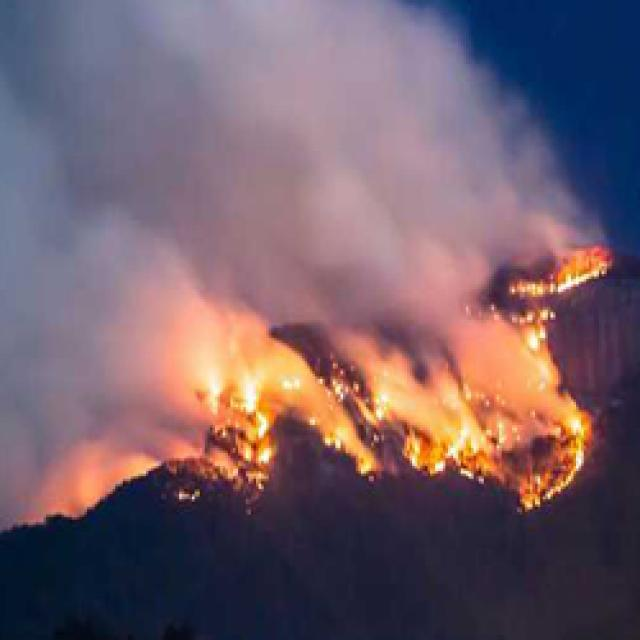Fire: (368, 370, 598, 518), (218, 329, 423, 488), (164, 303, 284, 518), (472, 221, 636, 346)
Smoke: (0, 0, 594, 236), (173, 154, 595, 412), (0, 0, 242, 448)
